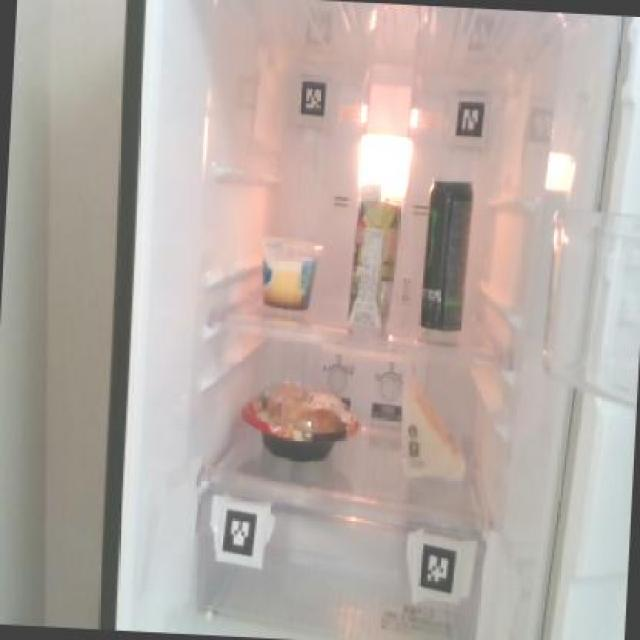bento: (235, 378, 358, 470)
energy_drink: (416, 174, 476, 338)
pudding: (253, 230, 324, 312)
sandwich: (395, 363, 473, 485)
smoothie: (345, 174, 404, 326)
